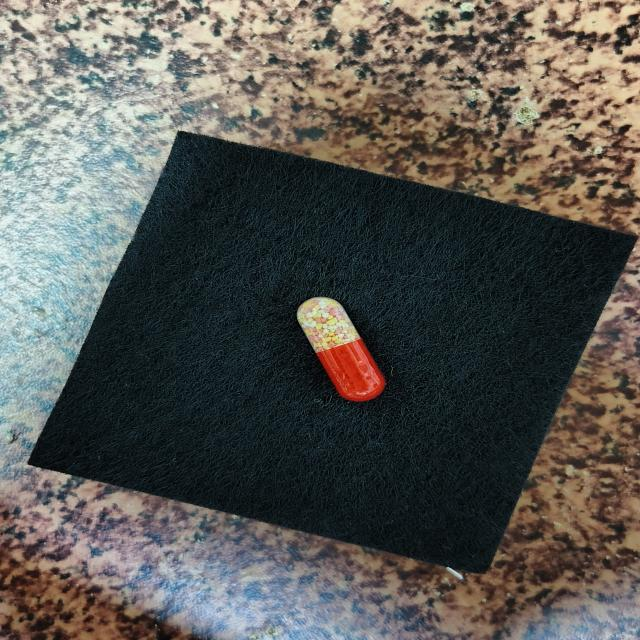Intact Capsule: (297, 297, 385, 401)
